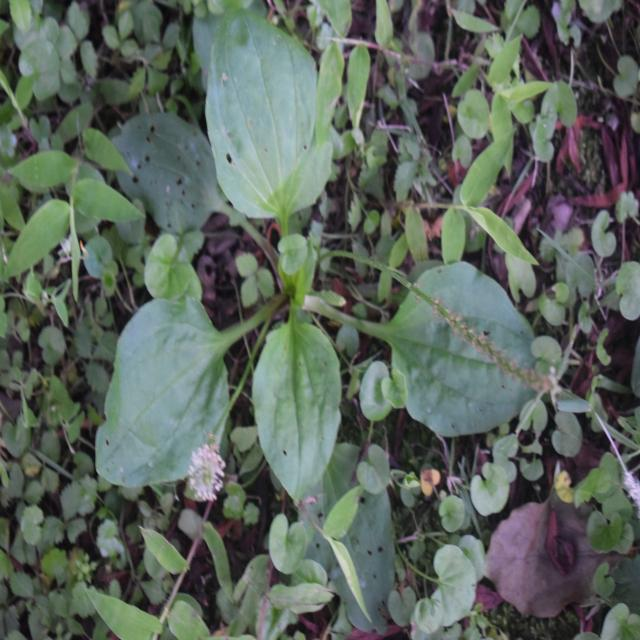plantain: (97, 44, 518, 495)
